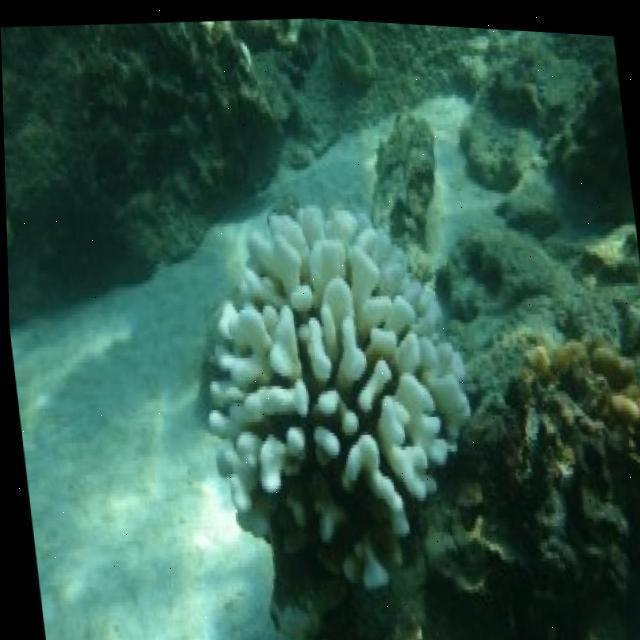Bleached Coral: (214, 202, 457, 539)
